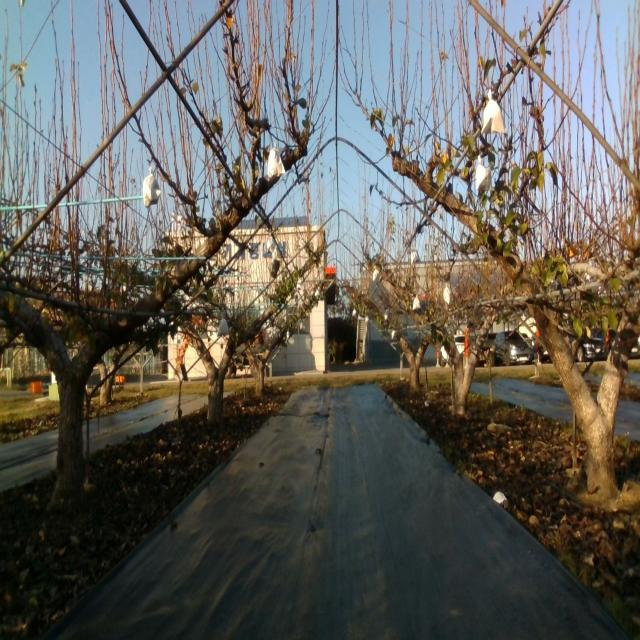pearbags: (480, 91, 506, 131), (266, 140, 286, 182), (142, 170, 162, 209), (474, 153, 494, 192), (263, 234, 277, 258), (216, 316, 228, 336)
